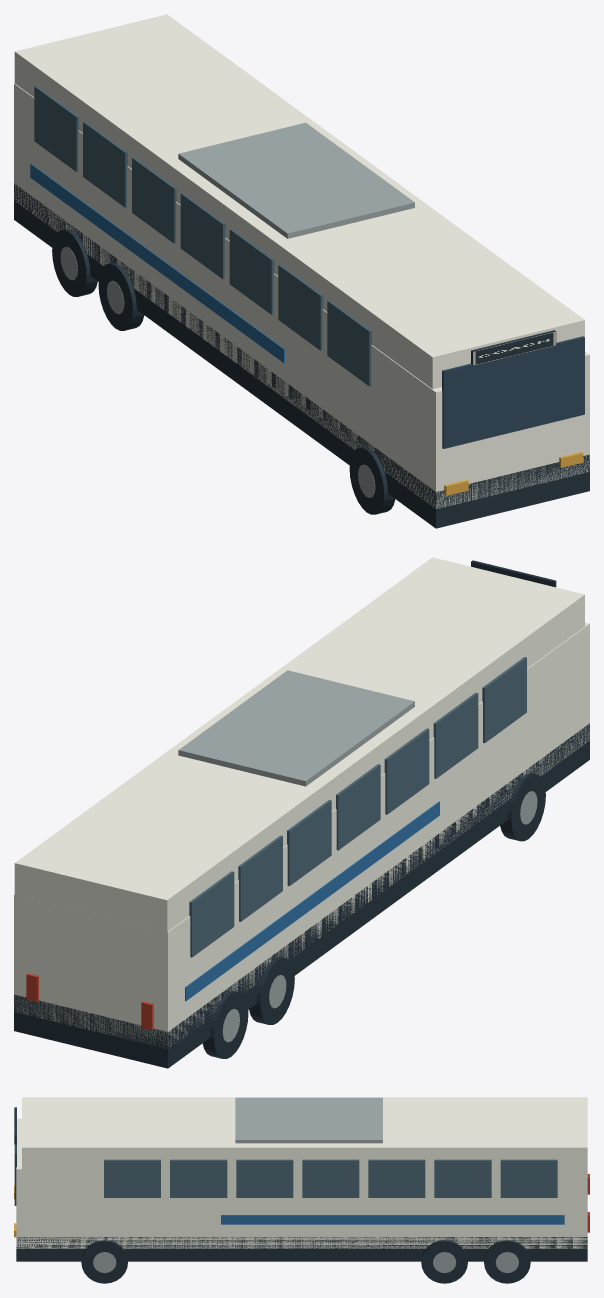
Rendered from scendance-plan-coach.glb.
The picture shows the model from 3 angles, top to bottom: view 1: azimuth 30°, elevation 25°; view 2: azimuth 150°, elevation 25°; view 3: azimuth 270°, elevation 25°; orthographic projection. The views are drawn at different scales.
Size of the model in its own units: 2.69 by 3.23 by 12.2.
9 materials, 1 textured.
